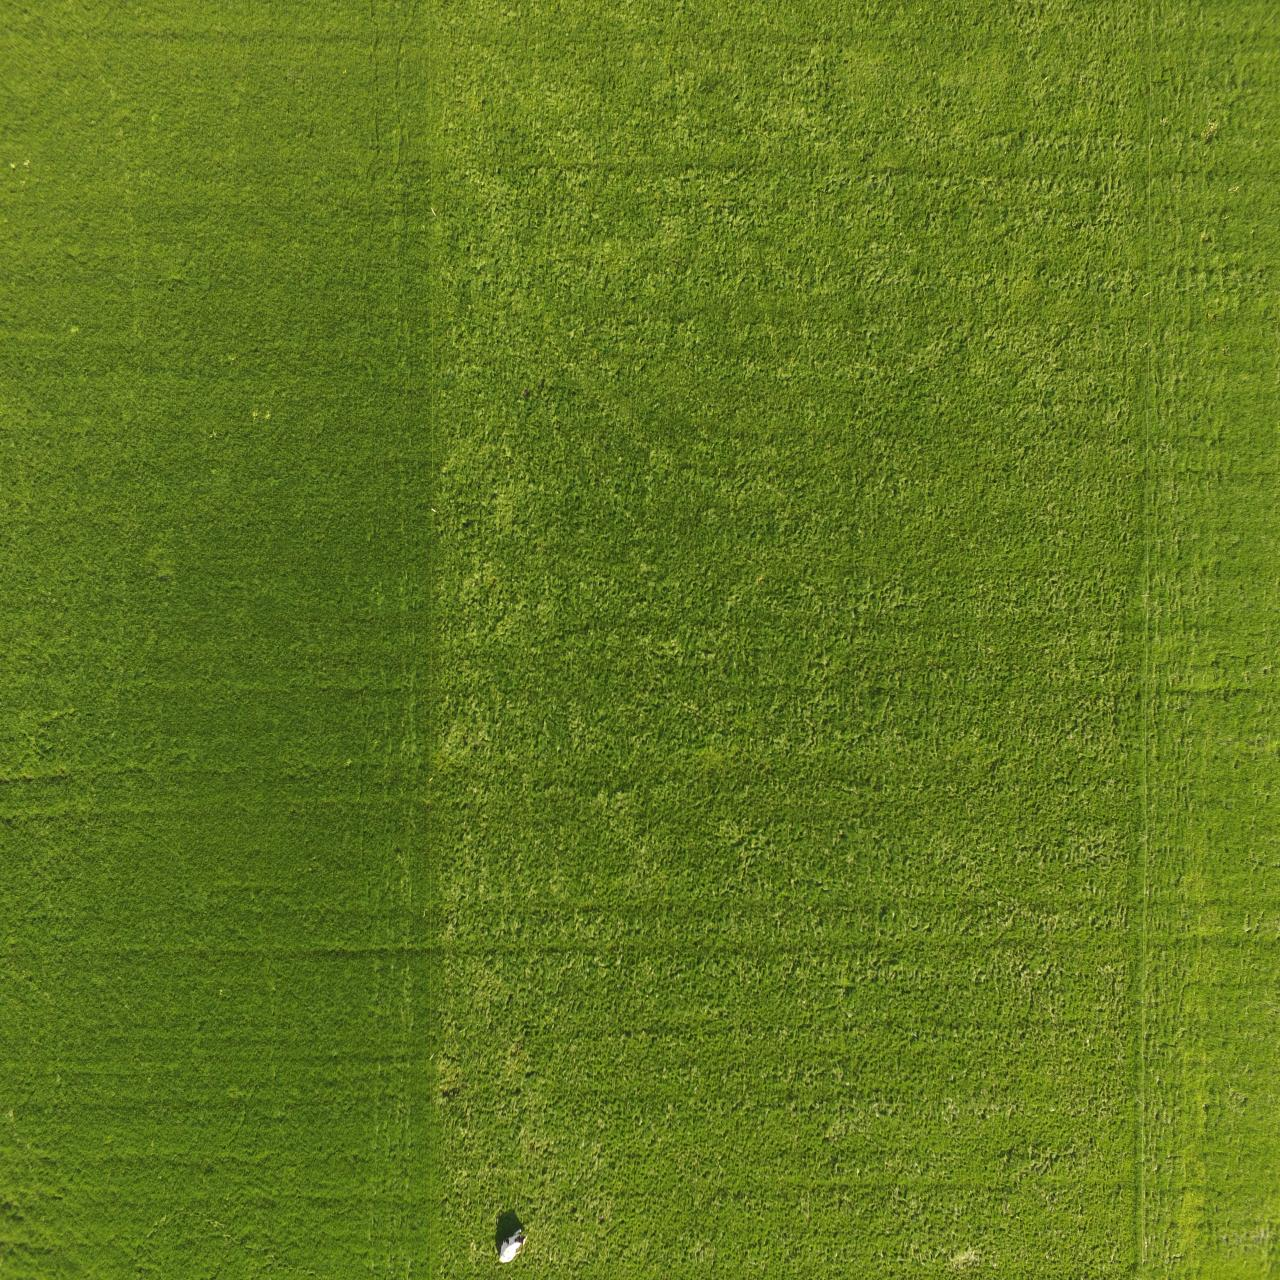cow: (491, 1205, 529, 1267)
